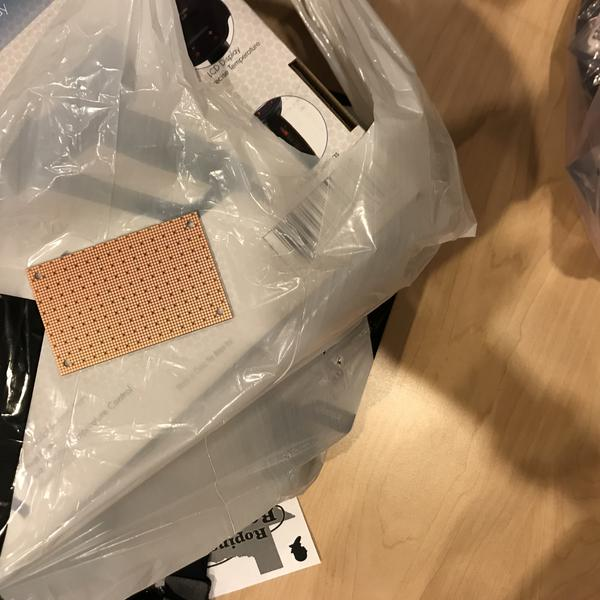board: (25, 208, 235, 377)
